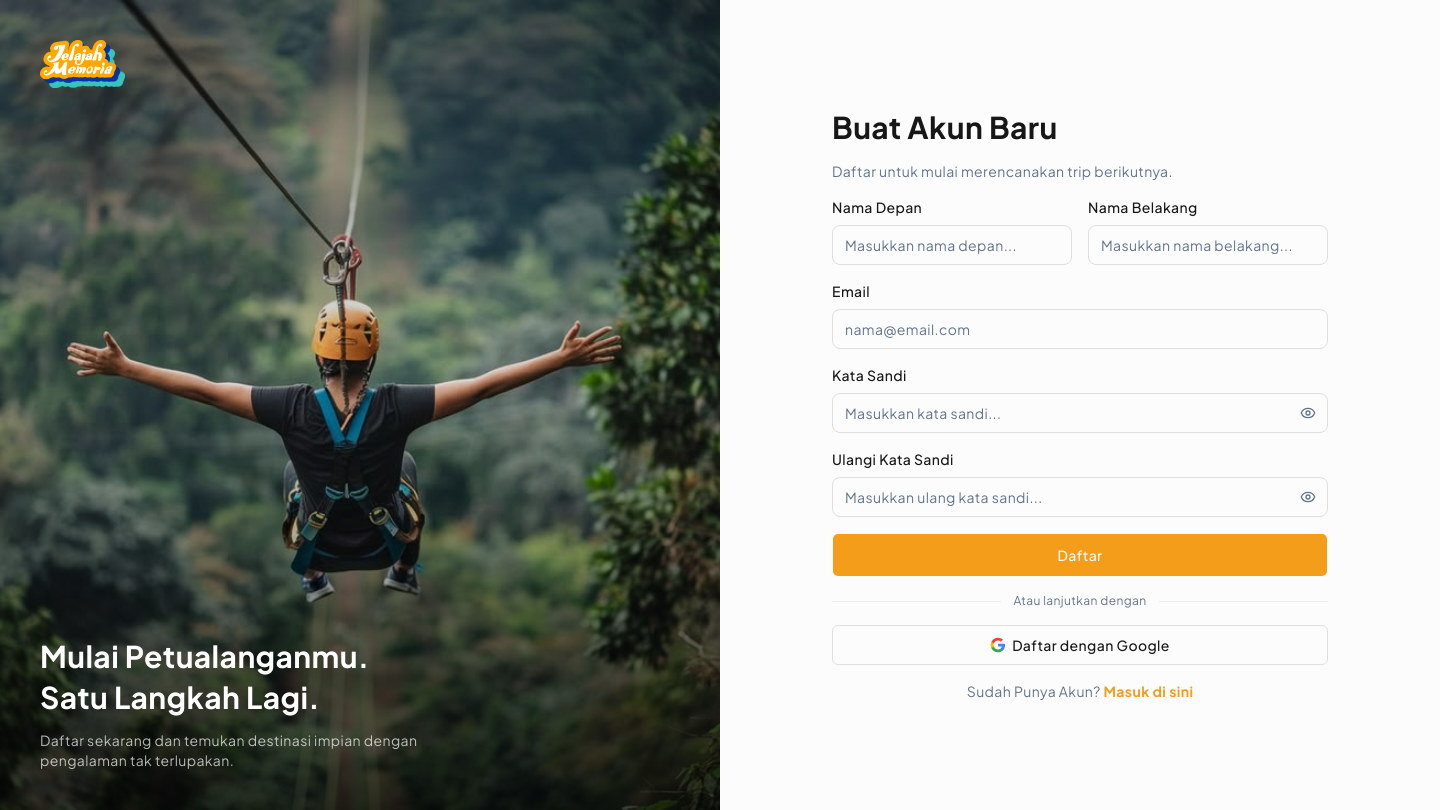
it: RegisterForm validasi › menolak password kurang dari 8 karakter
In the field labelled "Nama Depan": (952, 245) [832, 225, 1072, 265], type "Budi"
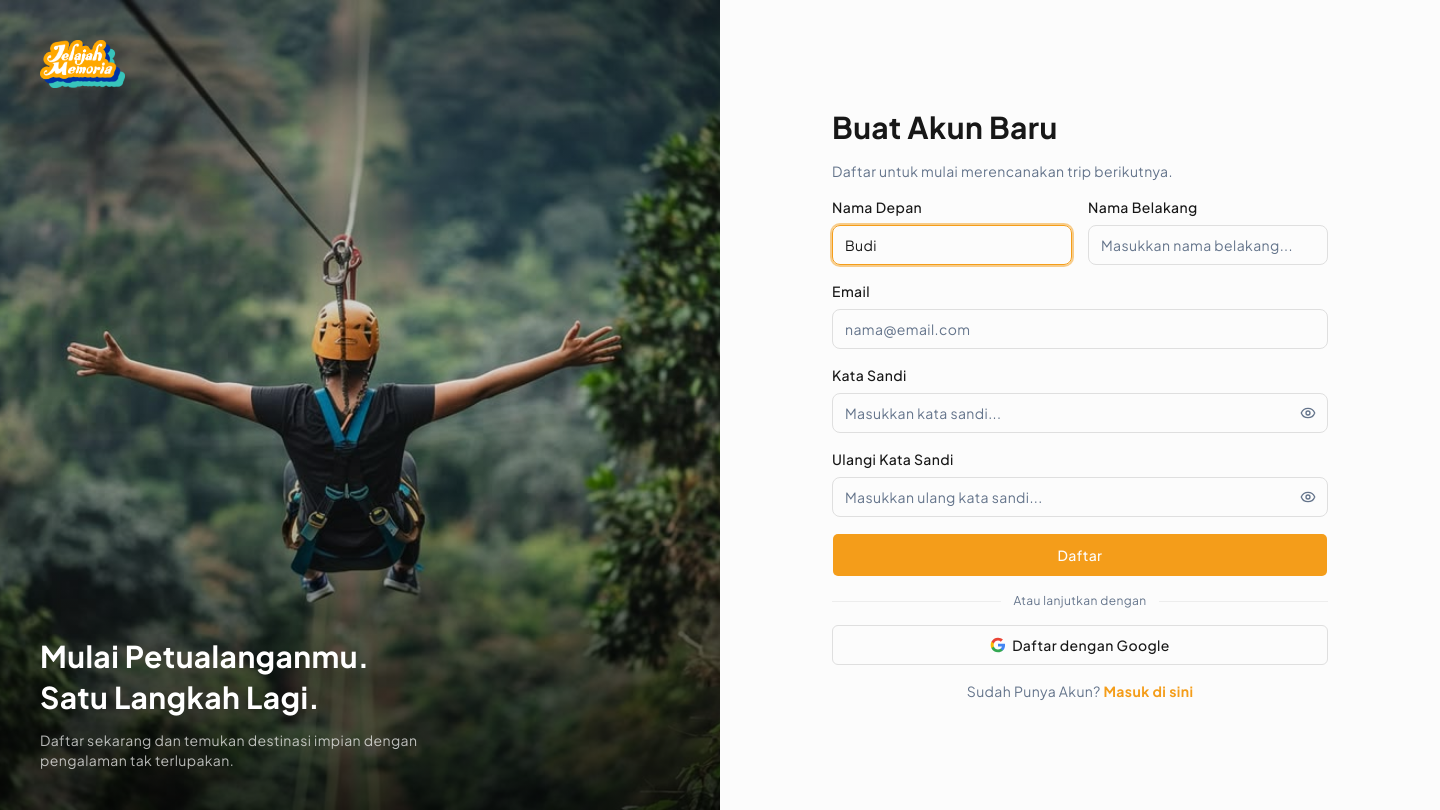
In the field labelled "Nama Belakang": (1208, 245) [1088, 225, 1328, 265], type "Santoso"
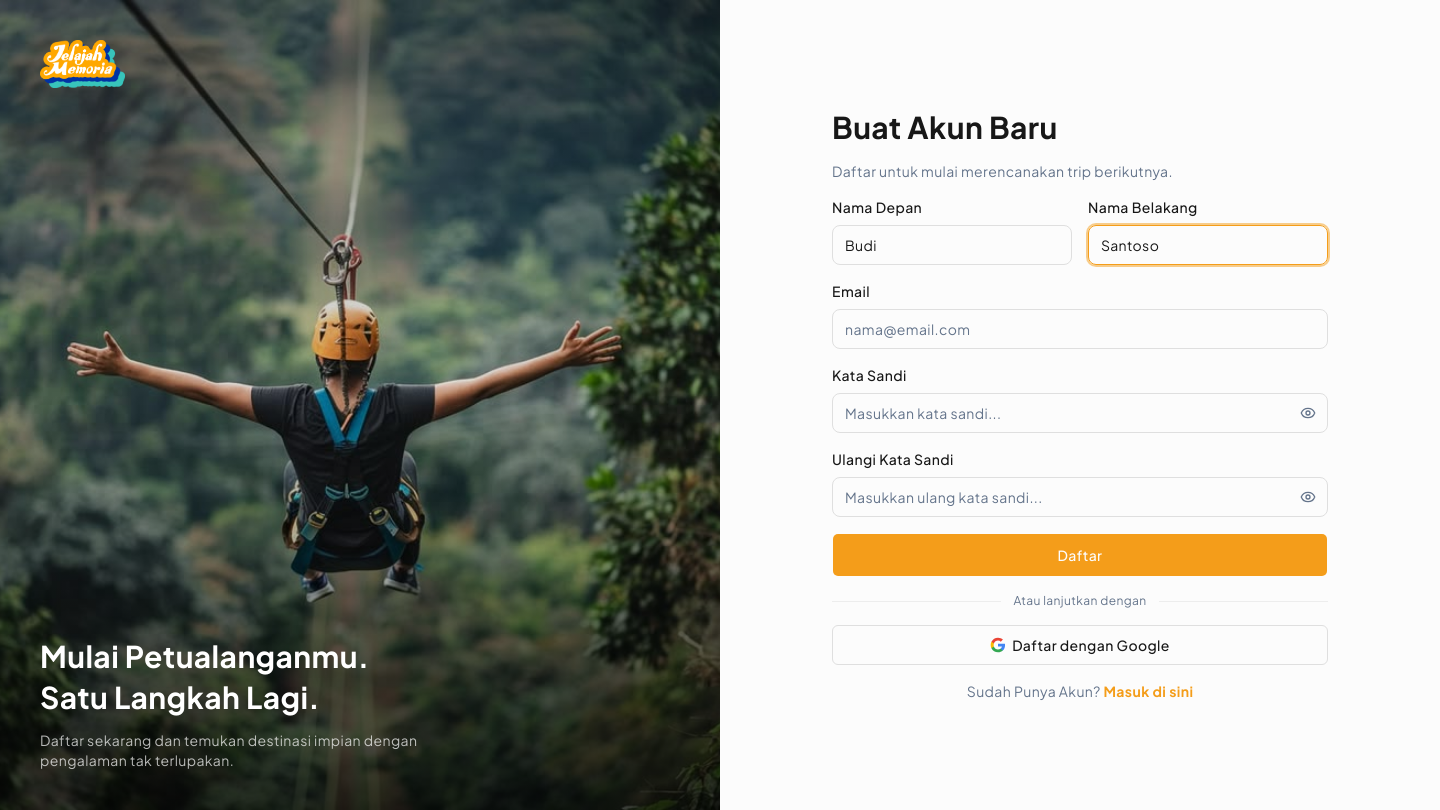
In the field labelled "Email": (1080, 329) [832, 309, 1328, 349], type "budi@example.com"
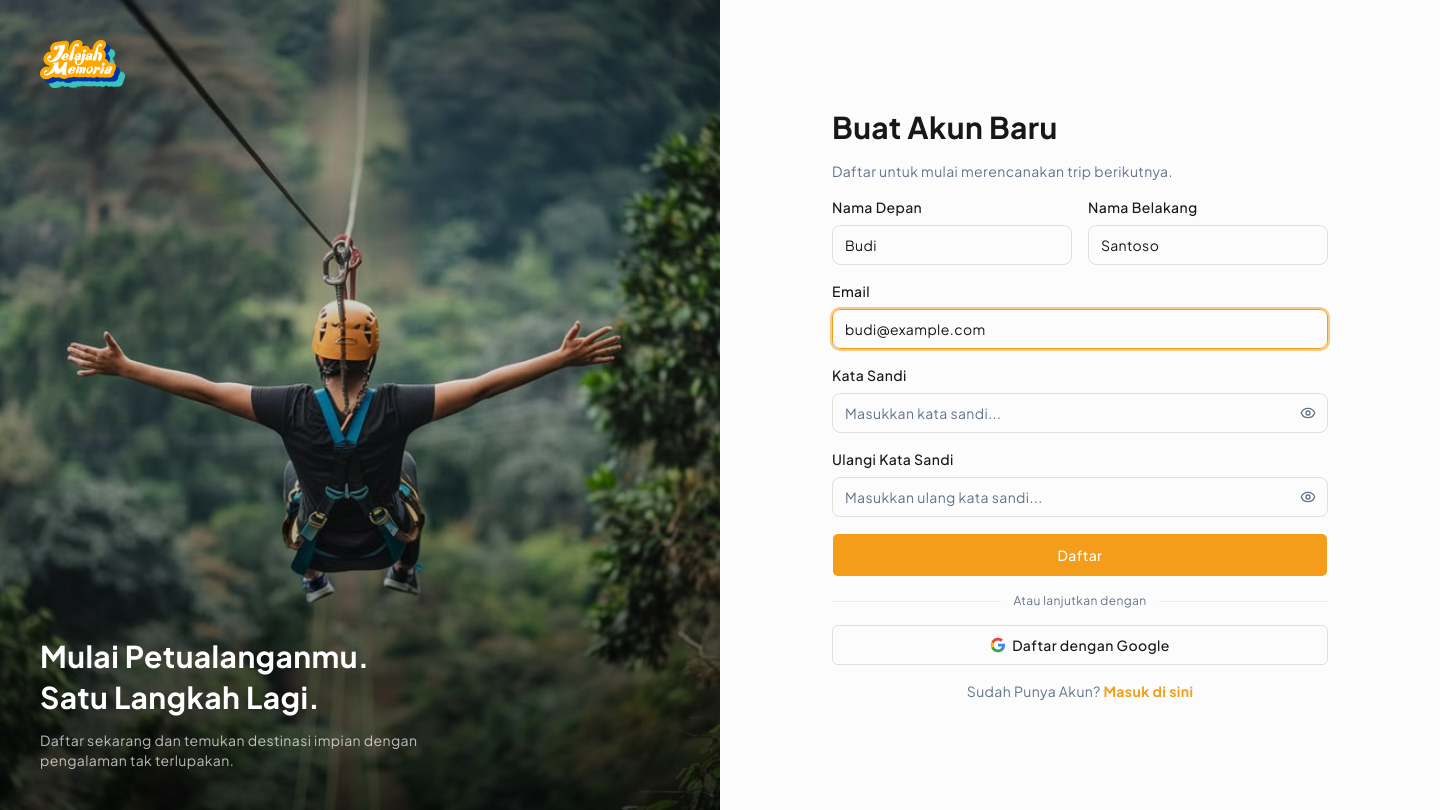
In the password field labelled "Kata Sandi": (1080, 413) [832, 393, 1328, 433], type "pendek"
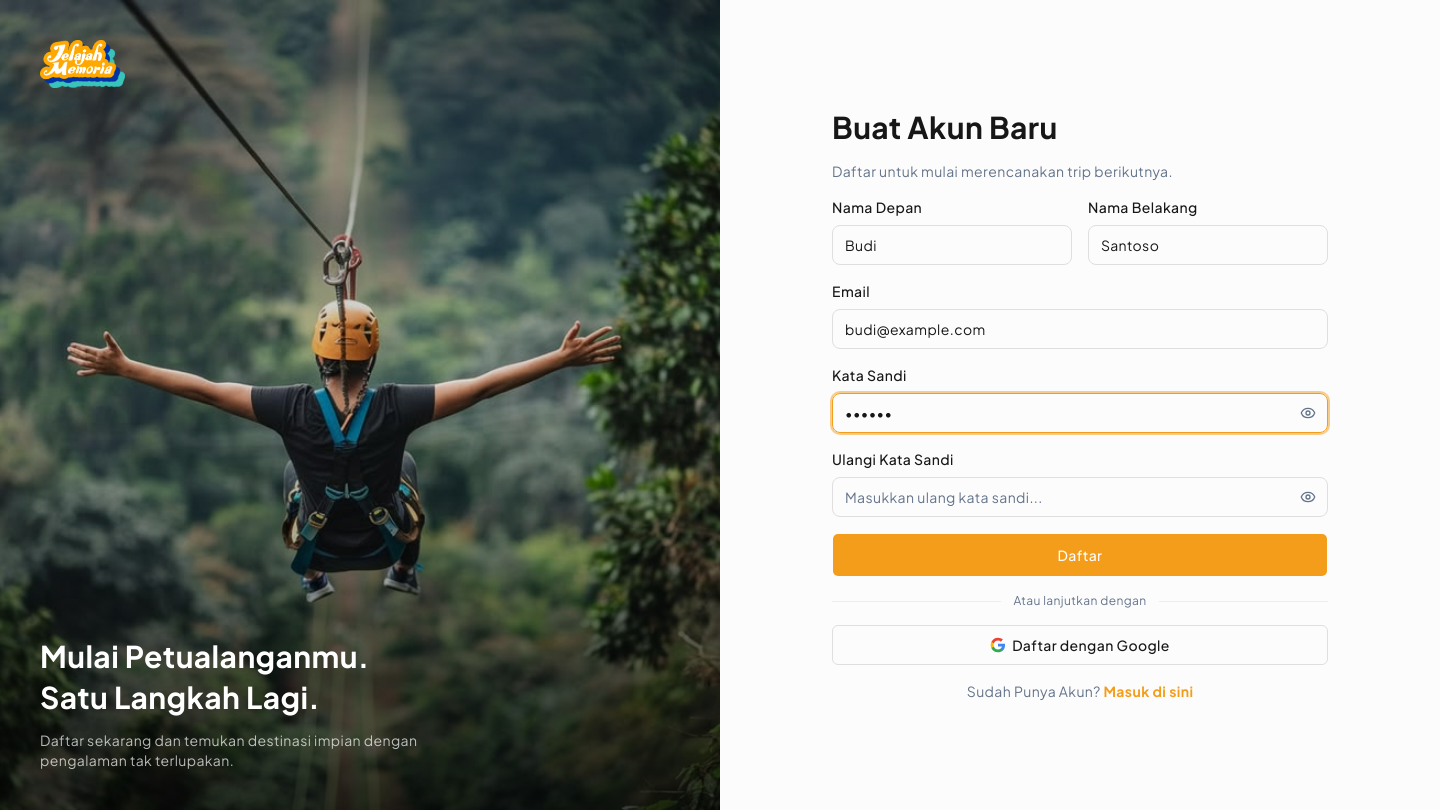
In the password field labelled "Ulangi Kata Sandi": (1080, 497) [832, 477, 1328, 517], type "pendek"
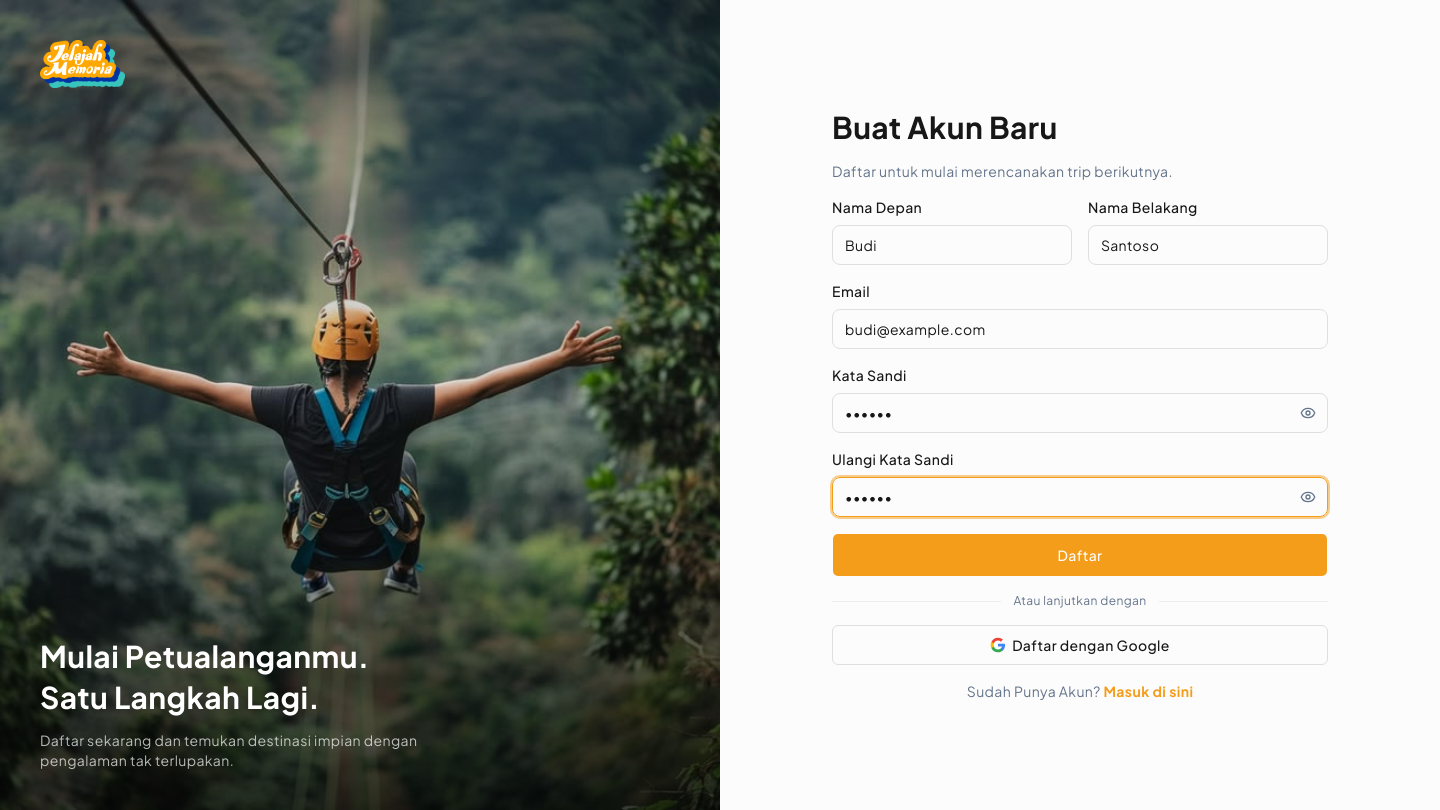
Click the button "Daftar": (1080, 555) [832, 533, 1328, 577]
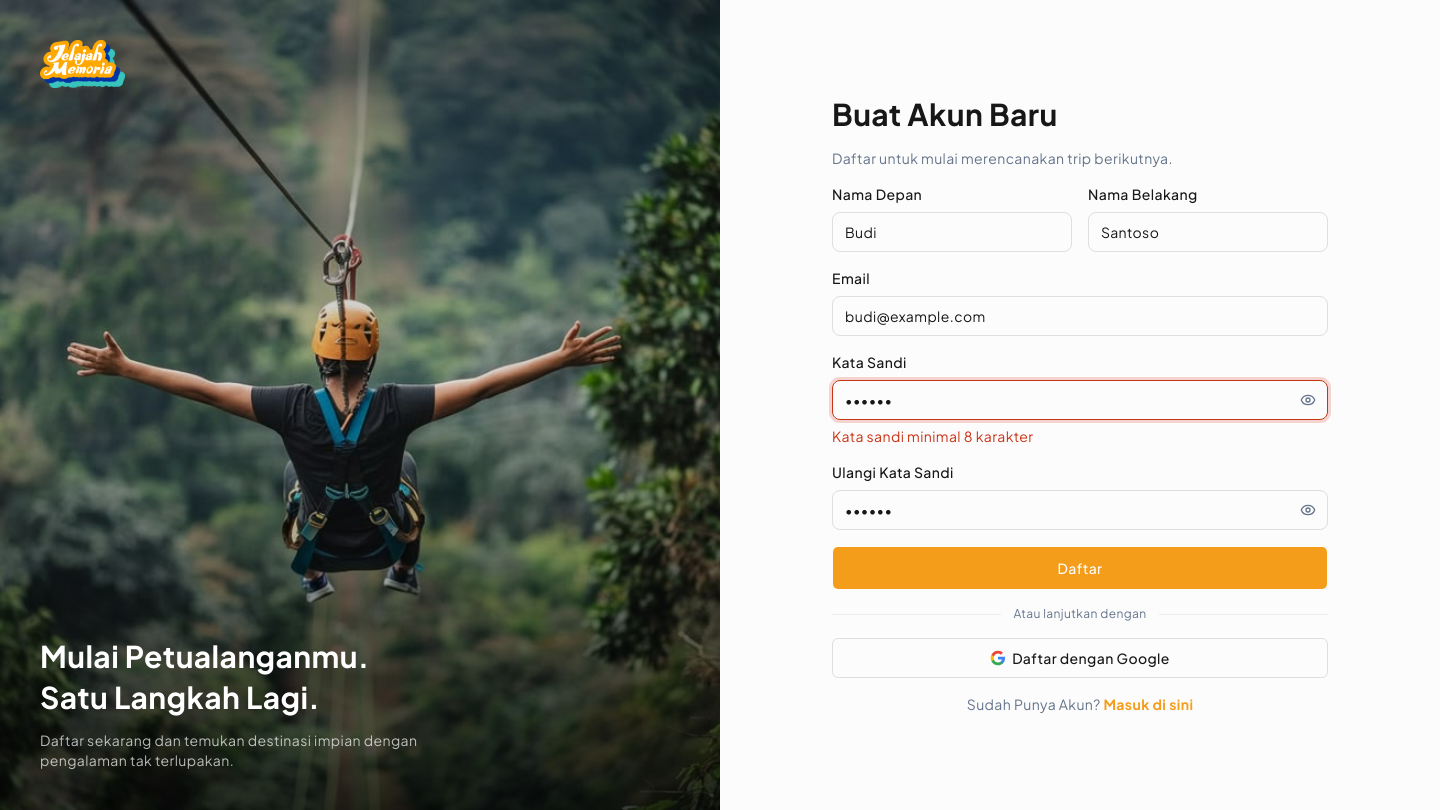
Check: the text "Kata sandi minimal 8 karakter" is shown, box [832, 427, 1034, 445]
